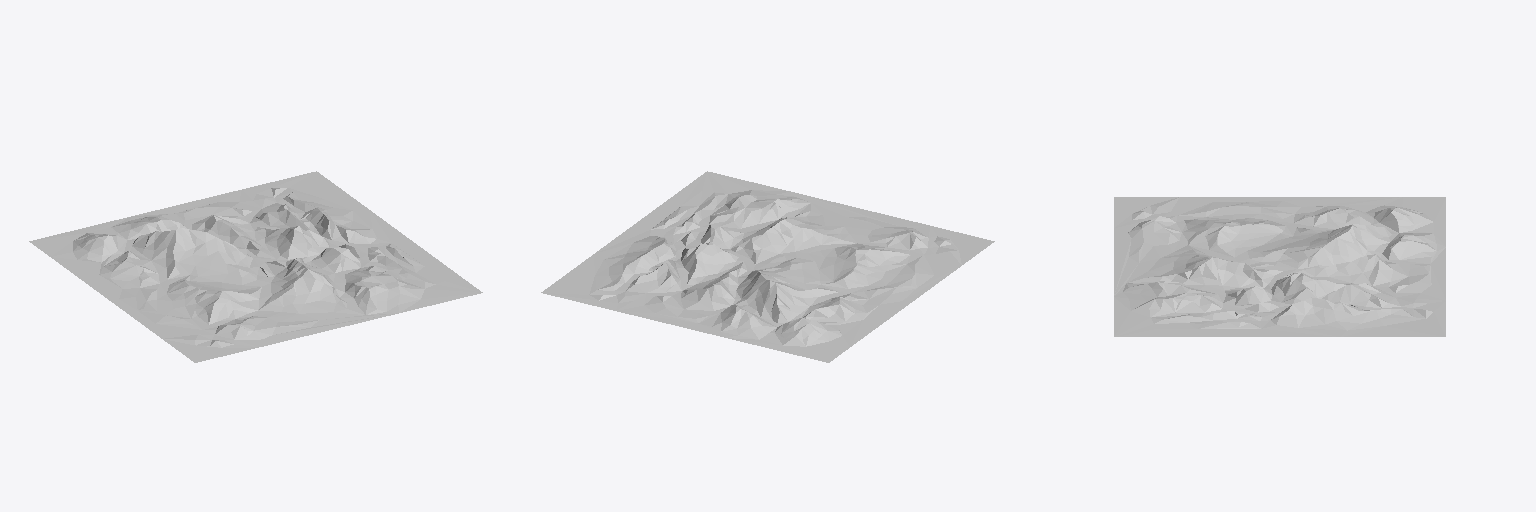
File: Mountain21.obj
3 renders of one model, left to right at view 1: azimuth 30°, elevation 25°; view 2: azimuth 150°, elevation 25°; view 3: azimuth 270°, elevation 25°, orthographic.
Size of the model in its own units: 1200 by 90.98 by 1200.